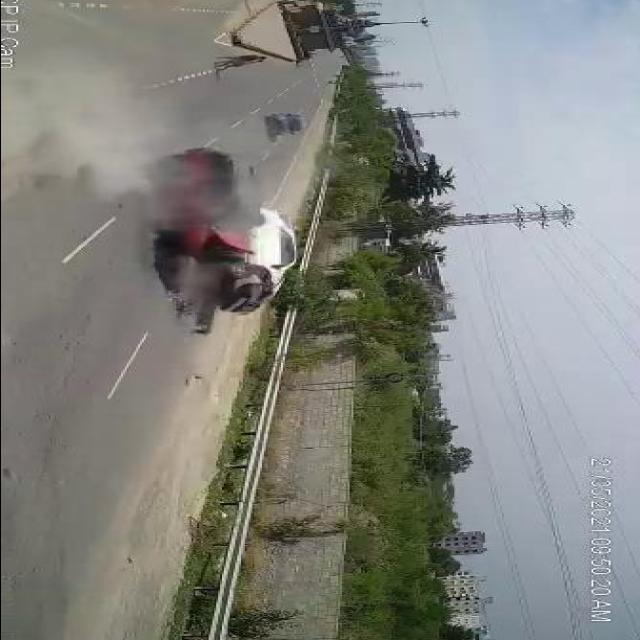accident: (135, 143, 307, 339)
